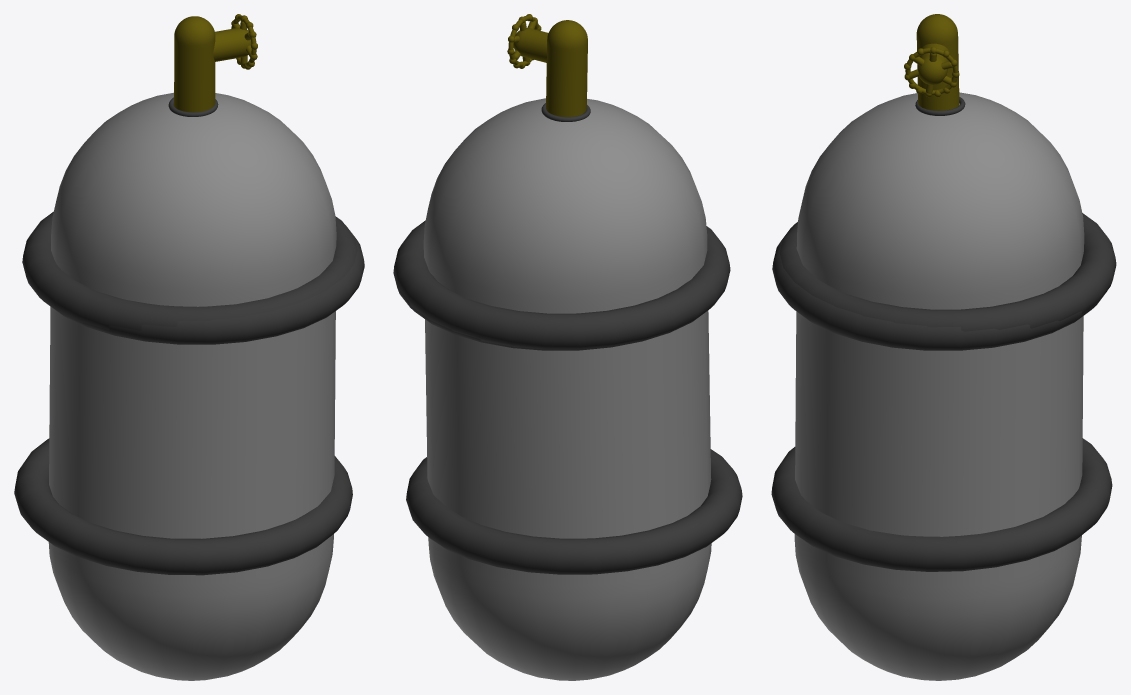
The model's file is tank.fbx.
The picture shows the model from 3 angles, left to right: view 1: azimuth 30°, elevation 25°; view 2: azimuth 150°, elevation 25°; view 3: azimuth 270°, elevation 25°; orthographic projection.
Parts seen in each view (by area): view 1: p.0020, p.0023, p.0022, p.0024, p.0025, p.0050; view 2: p.0020, p.0022, p.0023, p.0025, p.0050, p.0024; view 3: p.0020, p.0023, p.0022, p.0024, p.0025, p.0050.
Part boxes in pixels (x1,y1,x2,y2): p.0020: [48, 92, 336, 680]; p.0023: [14, 438, 352, 575]; p.0022: [22, 212, 357, 330]; p.0024: [60, 225, 364, 344]; p.0025: [174, 16, 215, 112]; p.0050: [213, 27, 251, 61]; p.0020: [423, 98, 711, 680]; p.0022: [394, 220, 730, 349]; p.0023: [406, 449, 742, 574]; p.0025: [546, 20, 587, 116]; p.0050: [513, 28, 548, 62]; p.0024: [393, 265, 689, 350]; p.0020: [794, 92, 1084, 680]; p.0023: [771, 438, 1112, 571]; p.0022: [779, 213, 1116, 331]; p.0024: [772, 226, 1106, 350]; p.0025: [916, 14, 959, 110]; p.0050: [917, 43, 949, 84].
Bounding box in the file's own units: 11.42 × 11.14 × 23.27.
